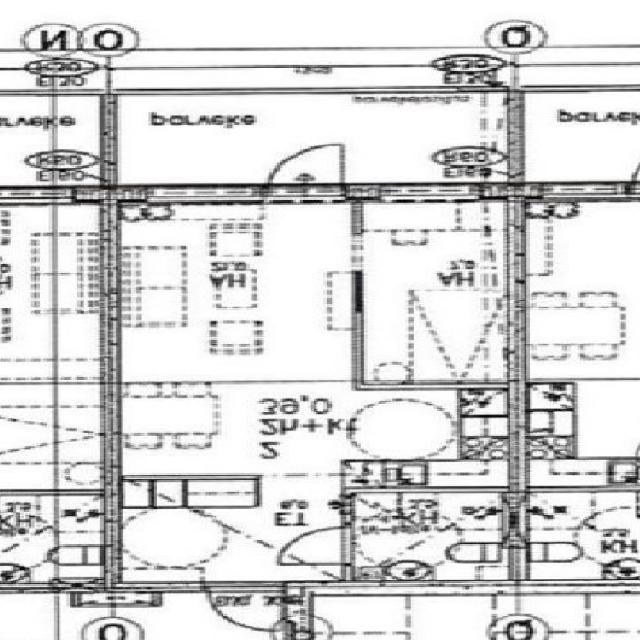door: (269, 139, 345, 202), (208, 581, 283, 638), (276, 526, 355, 564)
